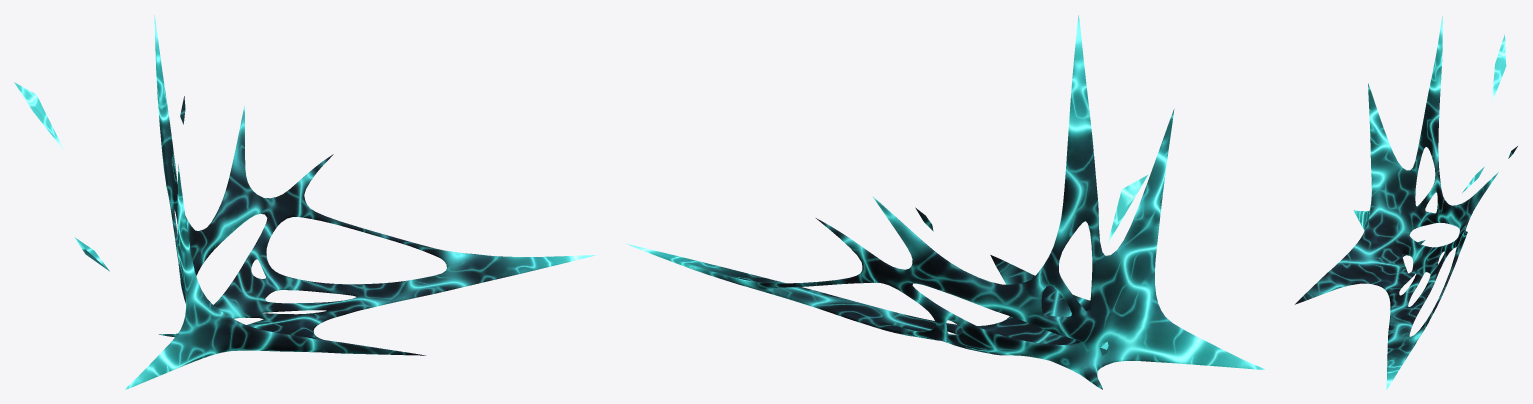
Rendered from caos_hro_chaosconfluence_02a_soma_v36.glb.
3 renders of one model, left to right at view 1: azimuth 30°, elevation 25°; view 2: azimuth 150°, elevation 25°; view 3: azimuth 270°, elevation 25°, orthographic. The views are drawn at different scales.
Parts seen in each view (by area): view 1: caos_hro_chaosconfluence_02a; view 2: caos_hro_chaosconfluence_02a; view 3: caos_hro_chaosconfluence_02a.
Boxes of the visible parts, x1,y1,x2,y2 form: caos_hro_chaosconfluence_02a: (14, 15, 596, 389); caos_hro_chaosconfluence_02a: (627, 15, 1264, 389); caos_hro_chaosconfluence_02a: (1295, 16, 1517, 389).
Bounding box in the file's own units: 40.47 × 24.16 × 21.16.
Materials: 1 (1 with a texture image).
